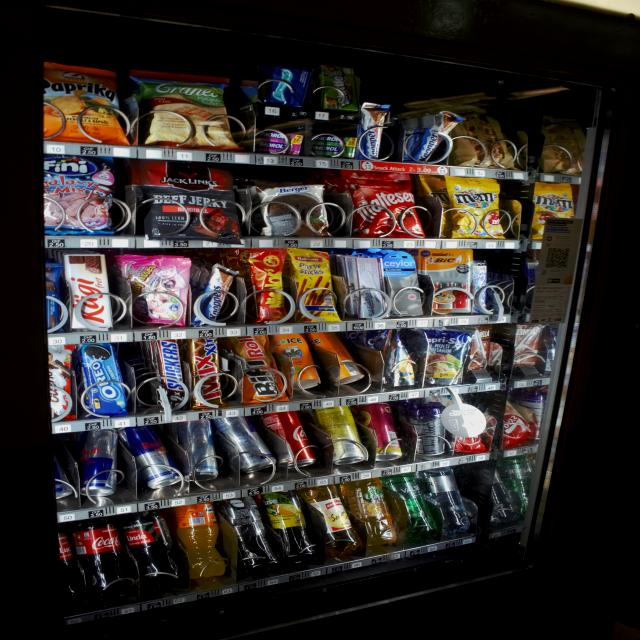airwaves_menthoneucalyptus_riegel_14_1_50173167: (269, 62, 307, 110)
berger____: (260, 184, 334, 240)
bifi_roll__50__4251097402635: (222, 332, 286, 404)
bueno___43__4008400320328: (45, 342, 80, 418)
c-swiss_dosenabisicetea__33__9120025930135: (272, 329, 327, 396), (313, 330, 372, 391)
caferoyal_classicmacchiato__33__7617014164487: (409, 403, 443, 456)
caprisun_multivitamin__20__4000177605004: (415, 327, 471, 385)
coke__flasche_50__54491472: (66, 517, 127, 599), (260, 410, 324, 470)
coke_zero_flasche_50__5449000131836: (141, 506, 168, 594)
fanta___50__40822938: (164, 502, 232, 582)
fini_galaxymix_packung_100_1_8410525150364: (41, 153, 114, 230)
fini_jellykisses_packung_80_1_8410525116704: (123, 256, 185, 320)
fuse_lemon__50__5449000235947: (256, 489, 317, 572)
fuse_lemon_dose_33__5449000235947: (319, 408, 365, 461)
jacklinks_beefjerkyorginal__25__4047751730219: (134, 160, 247, 246)
jlbrichard_gauffre__90__5410495002000: (460, 104, 514, 166)
kagi___50__7610046000259: (57, 250, 116, 330)
knoppers_riegel____4035800488808: (419, 110, 466, 168), (354, 100, 392, 160), (197, 264, 236, 322)
lorenz_nicnacs__40__4018077798818: (241, 245, 293, 327)
malburner_partysticks__40__7610200279682: (283, 247, 339, 322)
maltesers___100__5000159023061: (338, 167, 429, 239)
mnms_gelb__45__40111445: (438, 173, 509, 241)
oreo___66__84100733: (74, 338, 128, 424)
ramseier_schorle__50__7610057012456: (298, 482, 367, 560)
redbull___33__90162909: (123, 424, 183, 492), (70, 429, 124, 499)
skittles_sour_riegel_51_1_: (321, 61, 360, 113)
snickers___50__5000159461122: (146, 338, 187, 405)
stimorol_spearmint_riegel_14_1_: (308, 134, 357, 162)
stimorol_wildcherry_riegel_14_1_57060330: (252, 130, 302, 156)
tiki_himbeerbrause_dose_33_1_: (363, 402, 404, 462)
twix___50__5000159459228: (183, 333, 226, 407)
valser_classic__50__76404160: (388, 471, 440, 540)
valser_still__50__7610335002575: (438, 464, 462, 538)
volvic_pinapple__50__305764335648: (336, 474, 400, 546)
zweifel_graneochilli__100__7610095184009: (126, 69, 240, 155)
zweifel_paprika__90__7610095013002: (22, 54, 131, 144)
